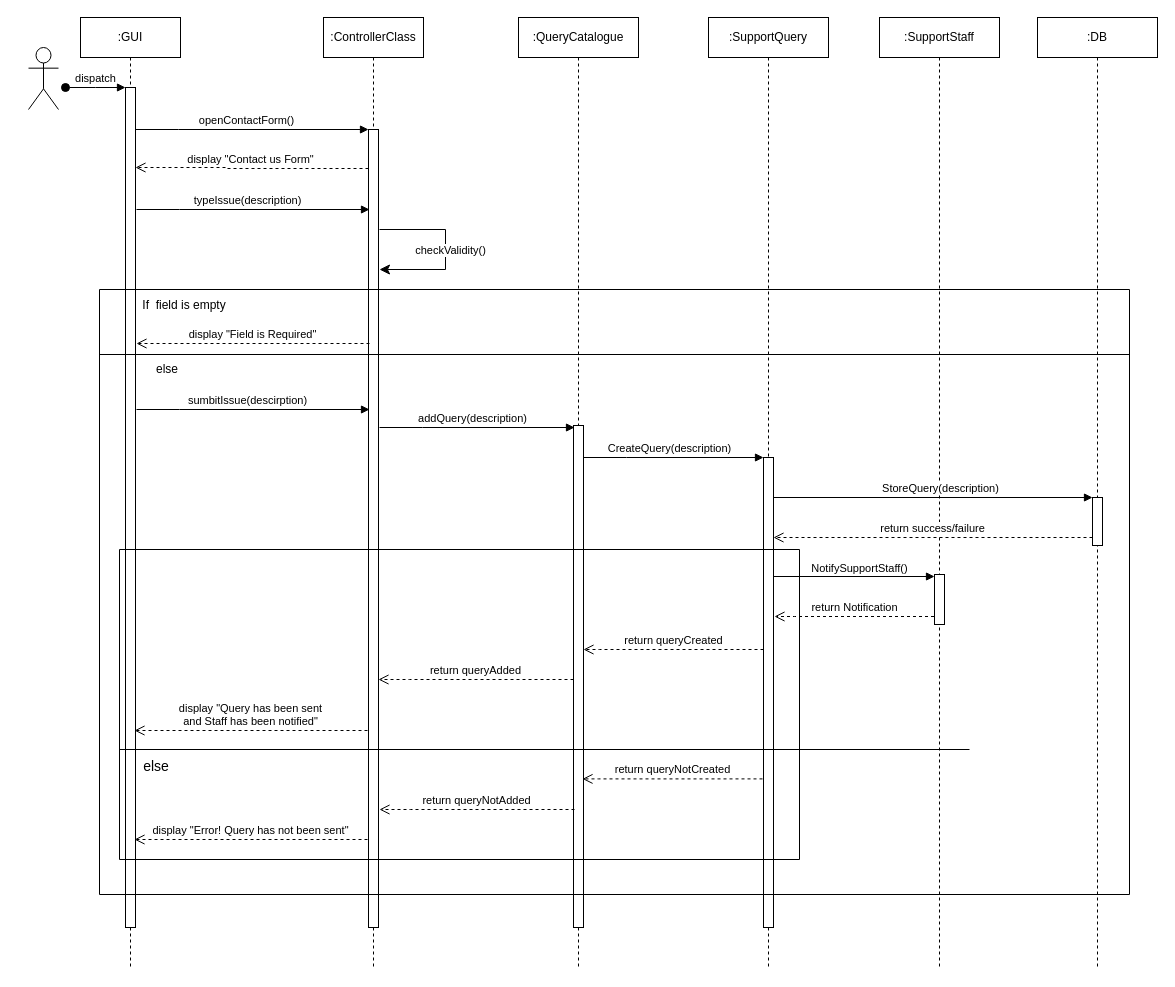
Some shapes in this 1175 by 987 pixel diagram are drawn without their labels. The shapes that lost their labels are listed below. From the top down, each one's centre as x and y in pixels, then its label:
(43,78): Customer
(459,704): If success
